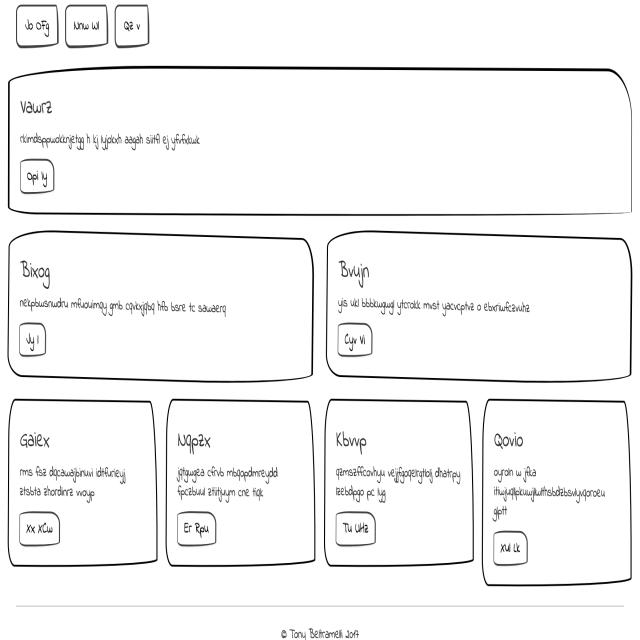Button: (329, 507, 380, 550), (175, 508, 218, 554), (15, 510, 63, 549), (489, 528, 529, 571), (335, 322, 377, 362), (17, 157, 57, 197), (18, 319, 48, 360)
Card: (4, 63, 636, 226), (0, 225, 318, 389), (324, 233, 636, 392), (480, 397, 637, 595), (162, 393, 320, 579), (4, 392, 162, 576), (321, 395, 475, 578)
Footer: (0, 599, 640, 640)
Heading 6: (331, 421, 376, 457), (16, 258, 55, 298), (173, 422, 212, 458), (335, 253, 372, 290), (492, 421, 528, 456), (16, 426, 55, 454), (18, 94, 57, 120)
Navigation Bar: (5, 0, 168, 63)
Paragraph: (489, 468, 610, 520), (331, 459, 467, 504), (17, 125, 206, 155), (172, 459, 290, 505), (15, 463, 137, 503), (20, 297, 238, 318), (337, 294, 538, 314)
